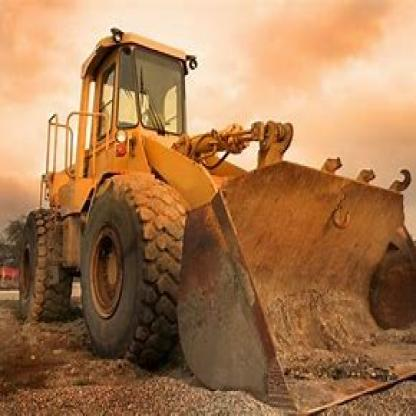bull_dozer/loader/grader: (17, 27, 415, 414)
